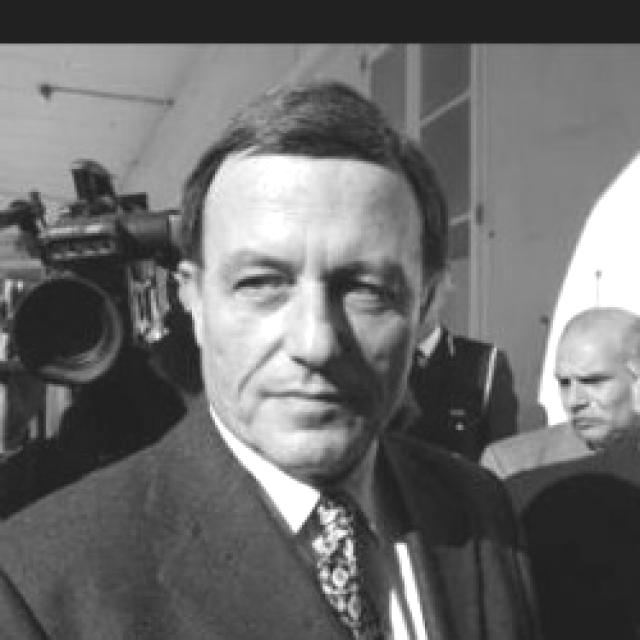real: (202, 152, 424, 466), (228, 263, 399, 308)
